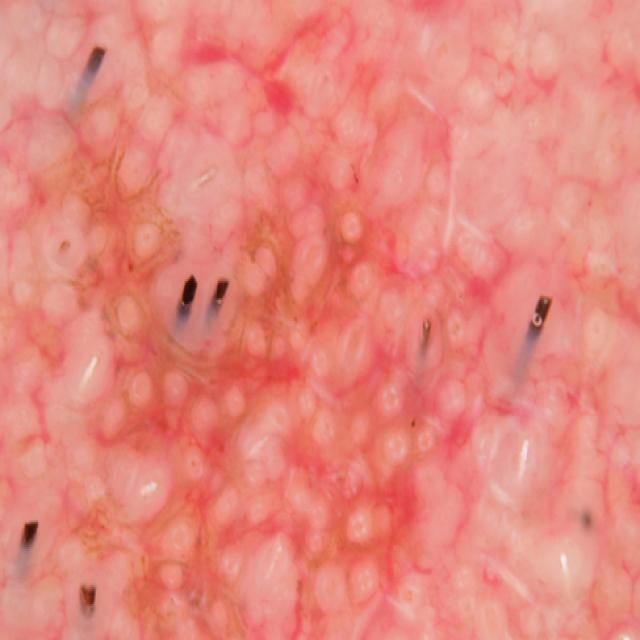Keratosis: (337, 153, 640, 499), (2, 173, 255, 549), (239, 587, 450, 640)
